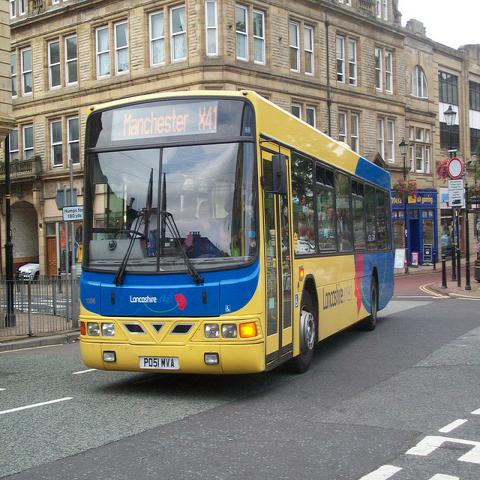bus: (79, 90, 397, 373)
car: (20, 255, 39, 282)
